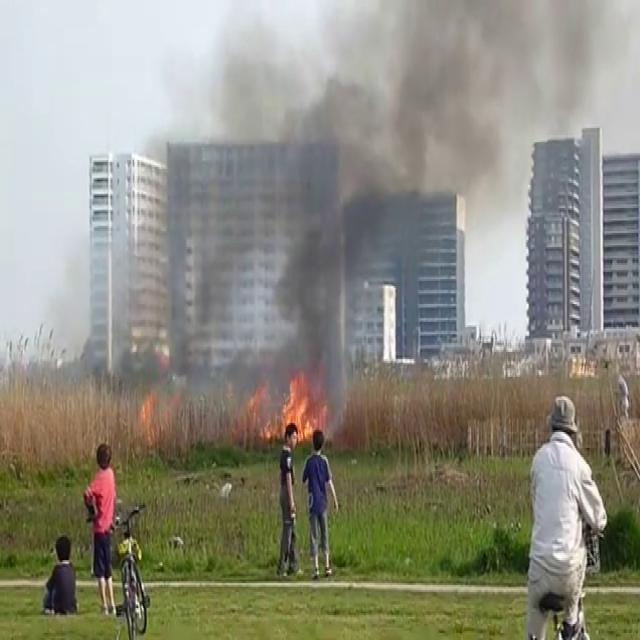Fire: (269, 366, 330, 446)
Smoke: (161, 0, 523, 407)
